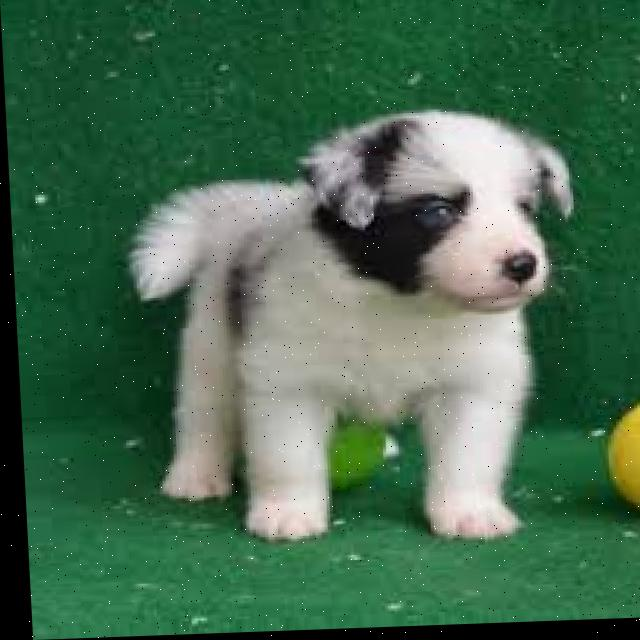ALASKAN_MALAMUTE: (93, 94, 601, 567)
